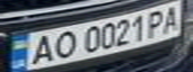0: (78, 23, 103, 53), (96, 20, 121, 50)
1: (127, 11, 151, 42)
2: (115, 16, 136, 46)
A: (21, 33, 60, 65), (157, 2, 187, 34)
O: (45, 28, 81, 60)
P: (142, 8, 172, 38)
